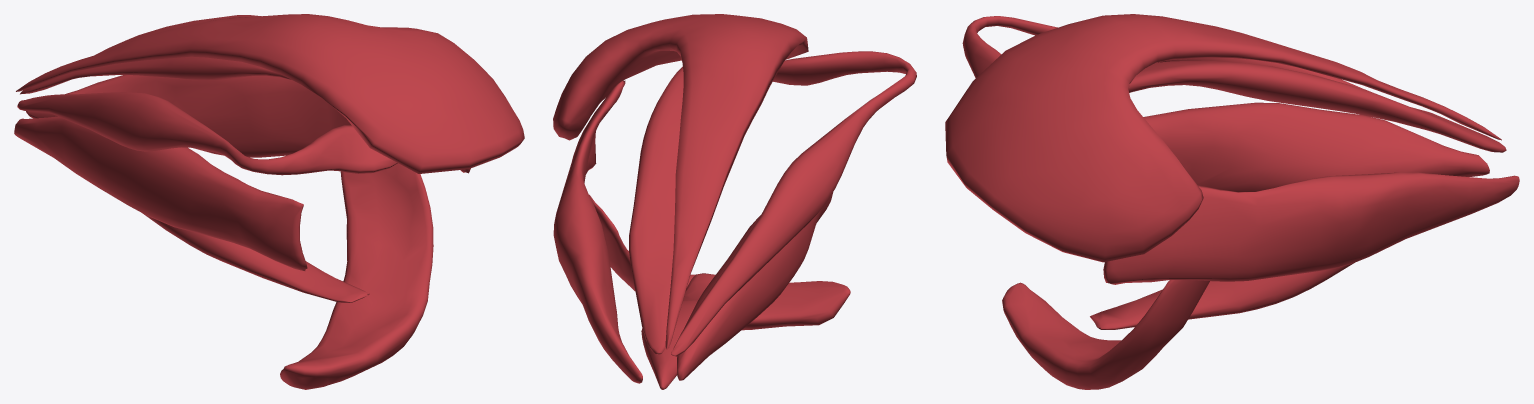
Rendered from eye_muscles_l.glb.
The picture shows the model from 3 angles, left to right: view 1: azimuth 30°, elevation 25°; view 2: azimuth 150°, elevation 25°; view 3: azimuth 270°, elevation 25°; orthographic projection. The views are drawn at different scales.
Visible parts, largest first — view 1: VH_M_superior_oblique_extraocular_muscle_L; view 2: VH_M_superior_oblique_extraocular_muscle_L; view 3: VH_M_superior_oblique_extraocular_muscle_L.
Part boxes in pixels (x1,y1,x2,y2): VH_M_superior_oblique_extraocular_muscle_L: [14, 14, 524, 389]; VH_M_superior_oblique_extraocular_muscle_L: [553, 14, 916, 389]; VH_M_superior_oblique_extraocular_muscle_L: [945, 14, 1519, 389].
Bounding box in the file's own units: 0.0367 × 0.0358 × 0.0545.
